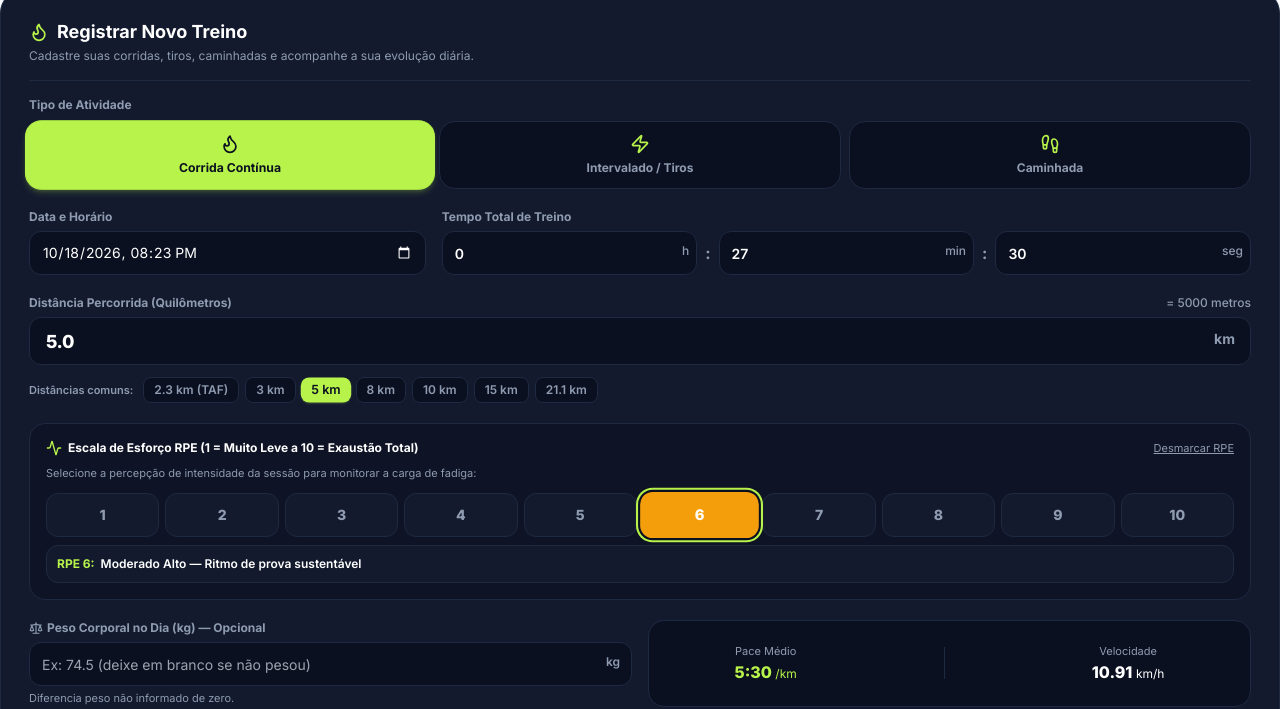
Test: Fase 4 - Integração de Calorias no Diário de Treinos e Cards › TrainingForm com Cálculo em Tempo Real de Calorias › exibe aviso quando o peso está vazio e calcula assim que o peso é digitado
Type "70" into the field with placeholder "Ex: 74.5 (deixe em branco se não pesou)" at (330, 664), box [29,642,632,686]
(page scrolled)
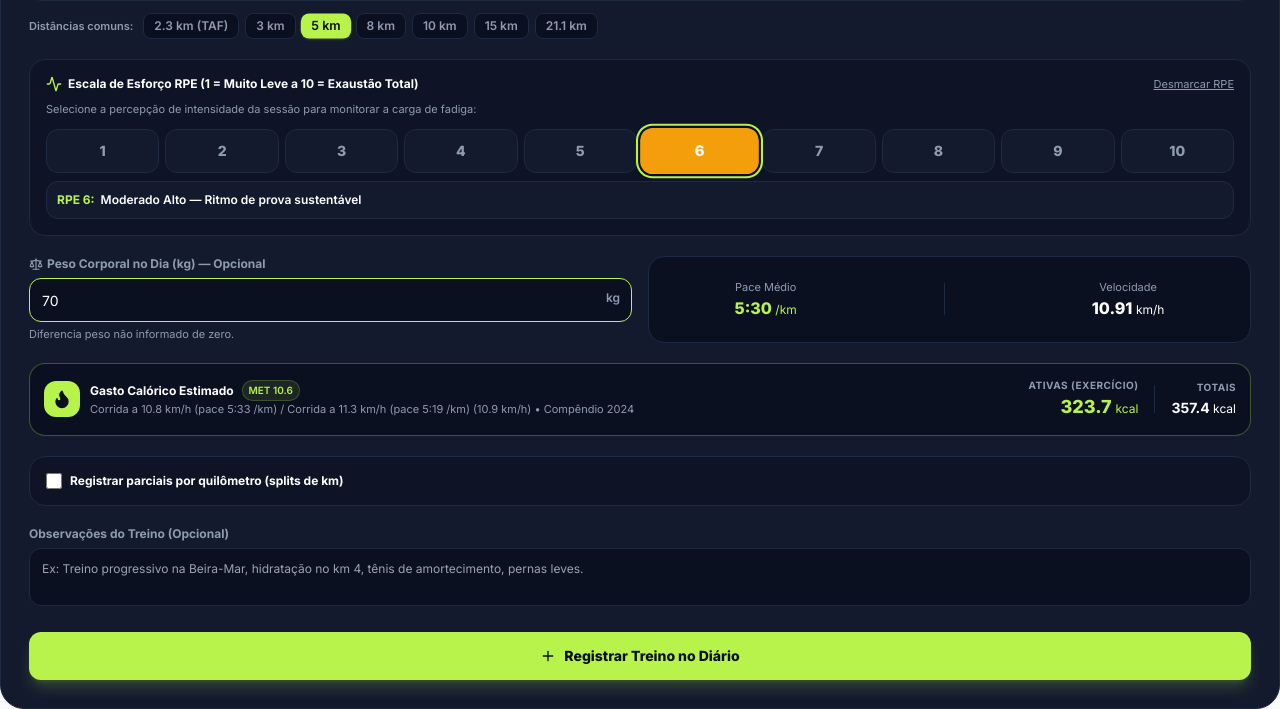
Expected: the element with test id "live-calories-card" is shown, [29,362,1251,436]
